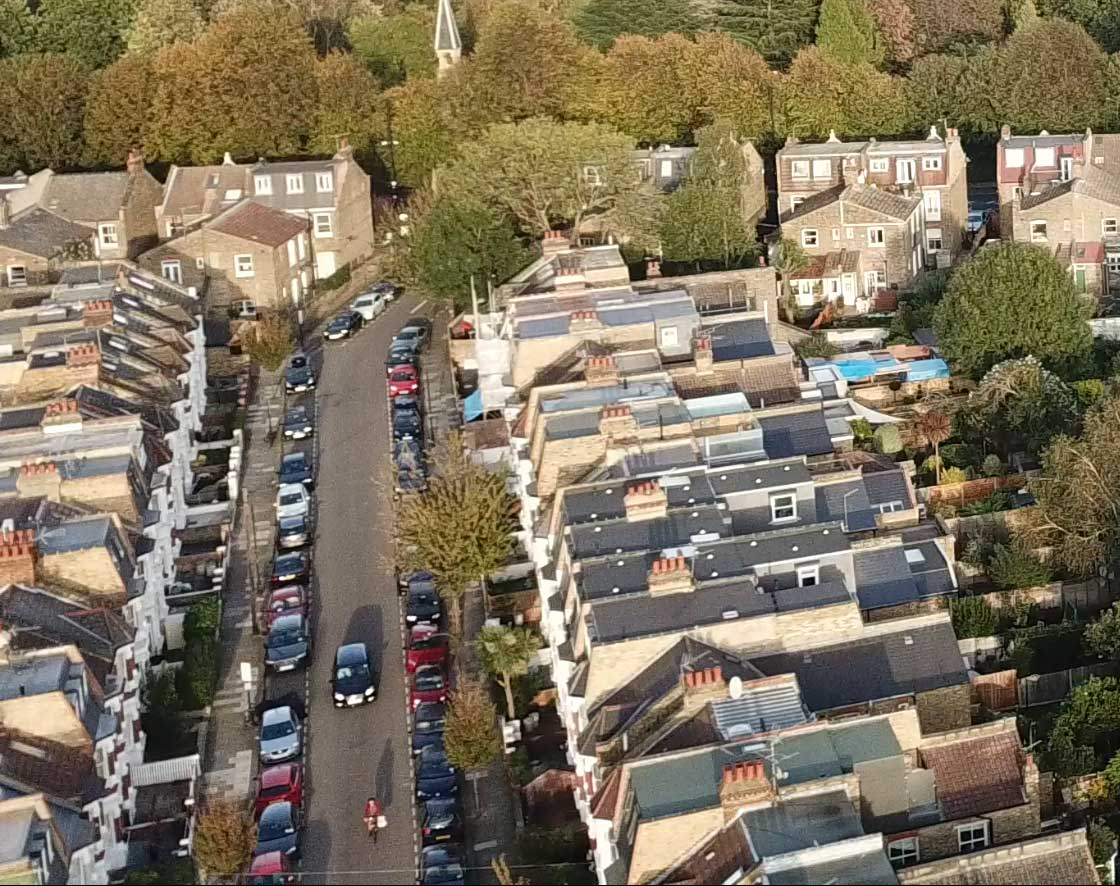car: (243, 797, 312, 876), (326, 636, 384, 713), (250, 617, 322, 678), (249, 696, 312, 765), (395, 578, 452, 632), (264, 480, 323, 526), (273, 359, 331, 401), (315, 310, 374, 344), (377, 361, 427, 400)
